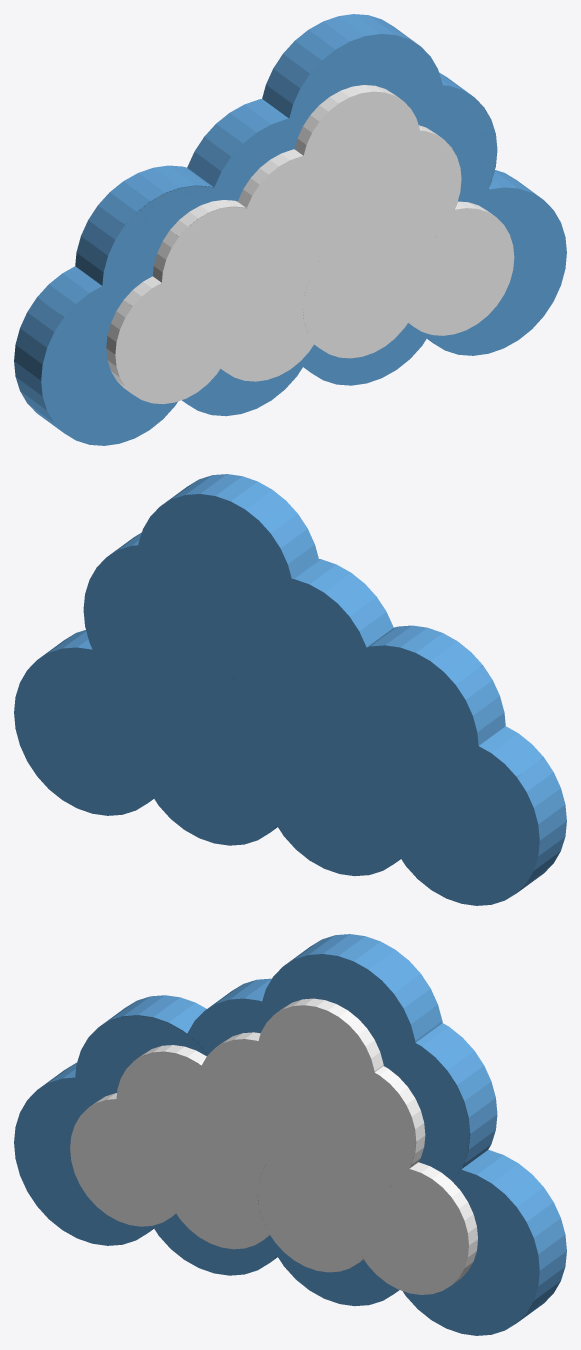
The model's file is mdlNube.obj.
3 renders of one model, top to bottom at view 1: azimuth 30°, elevation 25°; view 2: azimuth 150°, elevation 25°; view 3: azimuth 330°, elevation 25°, orthographic.
Visible parts, largest first — view 1: Nube.001, Nube; view 2: Nube; view 3: Nube.001, Nube.
Boxes of the visible parts, bbox=[...] form: Nube.001: bbox=[106, 85, 514, 404]; Nube: bbox=[14, 14, 566, 445]; Nube: bbox=[14, 474, 566, 905]; Nube.001: bbox=[70, 998, 477, 1294]; Nube: bbox=[14, 934, 566, 1335].
Size of the model in its own units: 3.58 by 2.26 by 0.4268.
2 materials, 2 textured.
